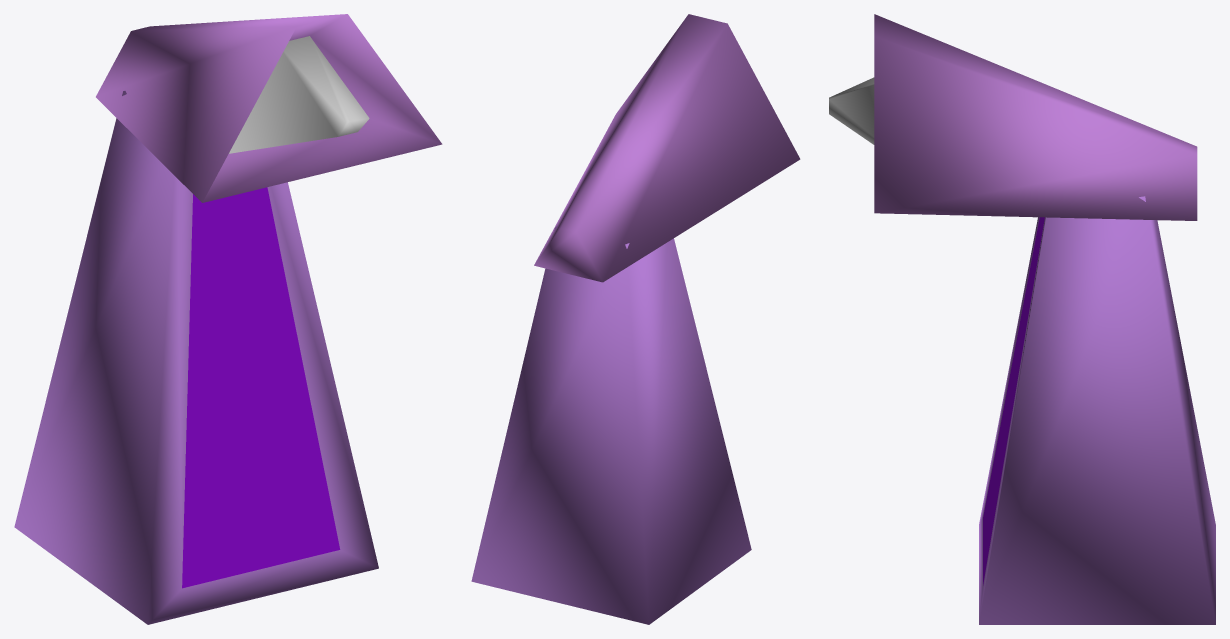
The model's file is zapping_cannon.fbx.
3 views of the same model, side by side, from view 1: azimuth 30°, elevation 25°; view 2: azimuth 150°, elevation 25°; view 3: azimuth 270°, elevation 25° (orthographic). The views are drawn at different scales.
Visible parts, largest first — view 1: pushing_cannon, cannon; view 2: pushing_cannon, cannon; view 3: pushing_cannon, cannon.
Part boxes in pixels (<box>): pushing_cannon: <box>14,91,378,624</box>; cannon: <box>96,14,442,202</box>; pushing_cannon: <box>471,226,751,624</box>; cannon: <box>534,14,800,282</box>; pushing_cannon: <box>979,196,1215,624</box>; cannon: <box>829,14,1197,220</box>.
Bounding box in the file's own units: 0.1569 × 0.3866 × 0.2465.
